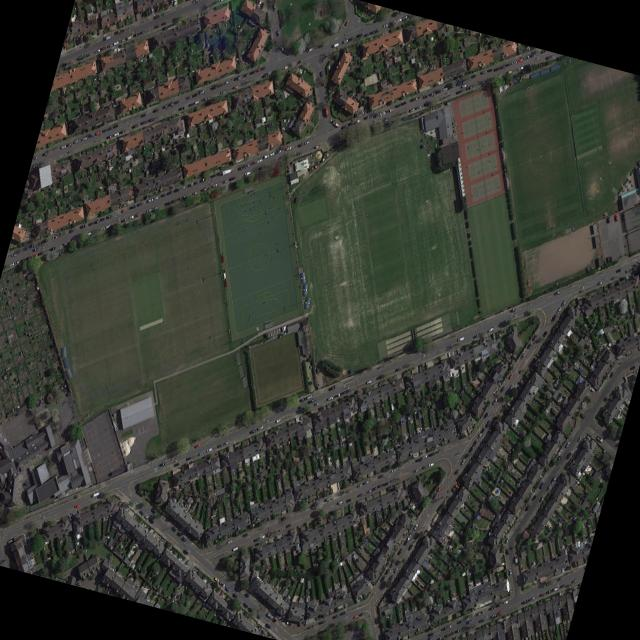large-vehicle: (484, 418, 491, 427), (484, 419, 491, 427)
small-vehicle: (222, 167, 231, 174), (522, 375, 529, 382), (528, 365, 535, 372), (91, 490, 99, 496), (597, 434, 603, 442), (556, 305, 562, 313), (515, 533, 521, 541), (380, 573, 386, 581), (99, 569, 104, 578), (328, 384, 335, 390), (267, 611, 273, 618), (551, 313, 557, 320), (397, 547, 403, 554), (332, 41, 339, 47), (472, 438, 478, 445), (542, 329, 547, 337), (219, 580, 225, 586), (247, 606, 253, 612), (589, 385, 595, 391), (566, 464, 572, 470), (232, 83, 238, 89), (148, 517, 154, 523), (421, 453, 427, 459), (458, 335, 464, 341), (199, 176, 206, 181), (41, 150, 48, 155), (121, 500, 126, 507), (104, 34, 111, 39), (427, 634, 434, 639), (532, 493, 537, 500), (566, 451, 571, 458), (609, 370, 614, 377), (500, 385, 505, 392), (565, 440, 570, 447), (551, 476, 556, 483), (466, 618, 473, 623), (561, 299, 566, 306), (506, 400, 511, 407), (517, 384, 522, 391), (140, 10, 145, 17), (294, 59, 301, 64), (532, 333, 537, 340), (106, 587, 111, 594), (413, 522, 418, 529), (408, 542, 413, 549), (432, 491, 437, 498), (383, 21, 390, 26), (468, 445, 473, 452), (477, 431, 482, 438), (454, 482, 459, 489), (514, 554, 518, 562), (96, 27, 100, 35), (296, 499, 300, 507), (448, 83, 454, 88), (211, 84, 217, 89), (249, 69, 255, 74), (263, 72, 269, 77), (279, 44, 284, 50), (282, 64, 288, 69), (307, 46, 313, 51), (257, 157, 263, 162), (275, 148, 281, 153), (188, 101, 194, 106), (229, 175, 235, 180), (216, 170, 222, 175), (309, 397, 315, 402), (340, 389, 346, 394), (333, 121, 339, 126), (333, 121, 339, 126), (380, 110, 386, 115), (423, 93, 429, 98), (299, 396, 305, 401), (266, 622, 271, 628), (326, 495, 332, 500), (265, 531, 271, 536), (243, 601, 248, 607), (146, 207, 152, 212), (134, 211, 140, 216), (69, 227, 75, 232), (178, 105, 184, 110), (148, 116, 154, 121), (141, 119, 147, 124), (131, 123, 137, 128), (106, 133, 112, 138), (33, 162, 39, 167), (147, 197, 153, 202), (69, 227, 75, 232), (32, 246, 38, 251), (80, 223, 86, 228), (105, 213, 111, 218), (81, 135, 87, 140), (117, 500, 122, 506), (171, 525, 176, 531), (183, 548, 188, 554), (107, 125, 113, 130), (127, 34, 133, 39), (133, 31, 139, 36), (427, 631, 433, 636), (525, 504, 530, 510), (509, 383, 514, 389), (520, 352, 525, 358), (577, 435, 582, 441), (546, 484, 551, 490), (496, 609, 502, 614), (529, 595, 535, 600), (552, 585, 558, 590), (546, 588, 552, 593), (390, 19, 396, 24), (372, 112, 378, 117), (554, 289, 560, 294), (616, 267, 622, 272), (75, 580, 81, 585), (97, 567, 102, 573), (389, 561, 394, 567), (403, 538, 408, 544), (345, 497, 351, 502), (428, 634, 434, 639), (325, 106, 328, 116), (319, 619, 325, 624), (464, 451, 469, 457), (488, 326, 494, 331), (511, 59, 517, 64), (517, 57, 523, 62), (376, 374, 382, 379), (483, 411, 488, 417), (428, 461, 434, 466), (473, 332, 479, 337), (68, 513, 72, 520), (614, 213, 618, 220), (389, 573, 393, 580), (165, 200, 170, 205), (167, 189, 172, 194), (245, 170, 250, 175), (186, 94, 191, 99), (212, 182, 217, 187), (214, 576, 219, 581), (346, 387, 351, 392), (335, 392, 340, 397), (223, 439, 228, 444), (304, 139, 309, 144), (330, 118, 335, 123), (355, 118, 360, 123), (233, 545, 238, 550), (225, 586, 230, 591), (260, 533, 265, 538), (254, 536, 259, 541), (286, 522, 291, 527), (227, 538, 232, 543), (258, 424, 263, 429), (256, 613, 261, 618), (232, 592, 237, 597), (250, 428, 255, 433), (245, 162, 250, 167), (401, 100, 406, 105), (169, 101, 174, 106), (163, 103, 168, 108), (153, 107, 158, 112), (121, 217, 126, 222), (9, 261, 14, 266), (14, 259, 19, 264), (38, 250, 43, 255), (23, 245, 28, 250), (20, 257, 25, 262), (94, 218, 99, 223), (100, 225, 105, 230), (105, 223, 110, 228), (67, 141, 72, 146), (144, 513, 149, 518), (195, 442, 200, 447), (207, 446, 212, 451), (160, 460, 165, 465), (139, 509, 144, 514), (151, 507, 156, 512), (177, 530, 182, 535), (182, 535, 187, 540), (217, 442, 222, 447), (96, 129, 101, 134), (87, 51, 92, 56), (95, 47, 100, 52), (107, 42, 112, 47), (139, 29, 144, 34), (395, 102, 400, 107), (424, 101, 429, 106), (437, 635, 442, 640), (455, 627, 460, 632), (447, 623, 452, 628), (572, 577, 577, 582), (564, 565, 569, 570), (522, 598, 527, 603), (491, 612, 496, 617), (479, 617, 484, 622), (539, 496, 544, 501), (258, 165, 263, 170), (318, 42, 323, 47), (7, 538, 12, 543), (364, 114, 369, 119), (372, 485, 377, 490), (357, 482, 362, 487), (349, 35, 354, 40), (402, 14, 407, 19), (333, 613, 338, 618), (340, 610, 345, 615), (354, 613, 359, 618), (359, 611, 364, 616), (428, 631, 433, 636), (429, 451, 434, 456), (524, 54, 529, 59), (436, 448, 441, 453), (413, 467, 418, 472), (392, 467, 397, 472), (391, 477, 396, 482), (372, 485, 377, 490), (395, 366, 400, 371), (170, 198, 176, 202), (181, 194, 187, 198), (234, 75, 240, 79), (211, 0, 217, 4), (220, 89, 226, 93), (297, 142, 303, 146), (294, 151, 300, 155), (238, 165, 244, 169), (210, 173, 216, 177), (435, 89, 441, 93), (185, 559, 189, 565), (280, 515, 286, 519), (113, 123, 119, 127), (130, 204, 136, 208), (11, 252, 17, 256), (28, 243, 34, 247), (25, 255, 31, 259), (185, 559, 189, 565), (119, 37, 125, 41), (114, 29, 120, 33), (505, 536, 509, 542), (540, 481, 544, 487), (557, 454, 561, 460), (493, 397, 497, 403), (509, 372, 513, 378), (581, 412, 585, 418), (460, 79, 466, 83), (475, 611, 481, 615), (572, 560, 576, 566), (489, 605, 495, 609), (528, 341, 532, 347), (297, 620, 301, 626), (610, 370, 614, 376), (394, 566, 398, 572), (407, 533, 411, 539), (377, 483, 383, 487), (357, 492, 363, 496), (363, 480, 369, 484), (456, 89, 462, 93), (345, 18, 349, 24), (481, 426, 485, 432), (473, 333, 479, 337), (498, 332, 502, 338), (500, 385, 504, 391), (493, 397, 497, 403), (461, 458, 465, 464), (437, 486, 441, 492), (378, 473, 384, 477), (382, 481, 388, 485), (377, 483, 383, 487), (273, 3, 276, 10), (69, 513, 72, 520), (506, 547, 509, 554), (83, 34, 86, 41), (155, 4, 158, 11), (260, 1, 263, 8), (321, 78, 324, 85), (607, 215, 610, 222), (317, 518, 320, 525), (174, 187, 179, 191), (161, 192, 166, 196), (152, 205, 157, 209), (243, 72, 248, 76), (258, 0, 262, 5), (176, 196, 181, 200), (181, 184, 186, 188), (264, 153, 269, 157), (286, 145, 291, 149), (179, 105, 184, 109), (204, 95, 209, 99), (192, 92, 197, 96), (201, 186, 206, 190), (194, 179, 199, 183), (255, 67, 260, 71), (224, 79, 229, 83), (220, 89, 225, 93), (367, 378, 371, 383), (328, 395, 333, 399), (314, 401, 319, 405), (314, 144, 319, 148), (330, 118, 334, 123), (383, 117, 388, 121), (416, 104, 421, 108), (443, 86, 448, 90), (429, 91, 434, 95), (307, 394, 312, 398), (243, 532, 248, 536), (245, 592, 249, 597), (152, 205, 157, 209), (129, 214, 134, 218), (154, 195, 159, 199), (174, 99, 179, 103), (119, 129, 124, 133), (102, 127, 107, 131), (61, 144, 66, 148), (192, 190, 197, 194), (75, 503, 80, 507), (33, 252, 38, 256), (52, 234, 57, 238), (50, 246, 55, 250), (42, 238, 47, 242), (88, 221, 93, 225), (100, 216, 105, 220), (74, 138, 78, 143), (89, 132, 94, 136), (199, 450, 203, 455), (223, 440, 228, 444), (174, 461, 179, 465), (223, 440, 228, 444), (75, 503, 80, 507), (114, 131, 119, 135), (113, 40, 118, 44), (154, 23, 159, 27), (102, 45, 107, 49), (161, 21, 166, 25), (410, 97, 415, 101), (586, 434, 590, 439), (441, 626, 446, 630), (450, 630, 455, 634), (464, 616, 469, 620), (503, 599, 508, 603), (557, 576, 562, 580), (560, 583, 565, 587), (540, 591, 545, 595), (496, 602, 501, 606), (457, 619, 462, 623), (168, 0, 172, 5), (256, 79, 261, 83), (630, 365, 635, 369), (597, 280, 602, 284), (385, 568, 389, 573), (383, 481, 388, 485), (366, 488, 371, 492), (415, 457, 420, 461), (349, 120, 354, 124), (342, 124, 347, 128), (397, 17, 402, 21), (375, 27, 380, 31), (343, 38, 348, 42), (358, 32, 363, 36), (364, 32, 369, 36), (370, 29, 375, 33), (373, 18, 378, 22), (381, 15, 386, 19), (510, 307, 515, 311), (443, 86, 448, 90), (467, 85, 472, 89), (518, 65, 523, 69), (547, 54, 552, 58), (529, 52, 534, 56), (505, 62, 510, 66), (500, 64, 505, 68), (494, 66, 499, 70), (487, 67, 492, 71), (471, 73, 476, 77), (455, 468, 459, 473), (422, 464, 427, 468), (367, 378, 371, 383), (320, 70, 323, 76), (305, 495, 308, 501), (302, 617, 305, 623), (286, 618, 289, 624), (148, 8, 151, 14), (151, 7, 154, 13), (509, 568, 512, 574), (350, 476, 353, 482), (144, 489, 147, 495), (320, 70, 323, 76), (200, 89, 204, 93), (218, 82, 222, 86), (261, 65, 265, 69), (270, 151, 274, 155), (195, 99, 199, 103), (200, 89, 204, 93), (189, 181, 193, 185), (410, 107, 414, 111), (416, 95, 420, 99), (276, 417, 280, 421), (338, 500, 342, 504), (223, 178, 227, 182), (138, 201, 142, 205), (121, 208, 125, 212), (186, 95, 190, 99), (141, 112, 145, 116), (41, 160, 45, 164), (64, 240, 68, 244), (186, 456, 190, 460), (154, 195, 158, 199), (78, 54, 82, 58), (445, 632, 449, 636), (456, 81, 460, 85), (462, 83, 466, 87), (507, 326, 511, 330), (482, 69, 486, 73), (481, 79, 485, 83), (173, 0, 176, 5), (337, 500, 342, 503), (607, 255, 609, 262), (277, 29, 279, 35), (218, 443, 222, 446), (64, 42, 66, 48), (299, 526, 301, 532), (76, 38, 78, 44), (610, 255, 612, 261), (431, 638, 436, 640), (193, 0, 197, 2)
